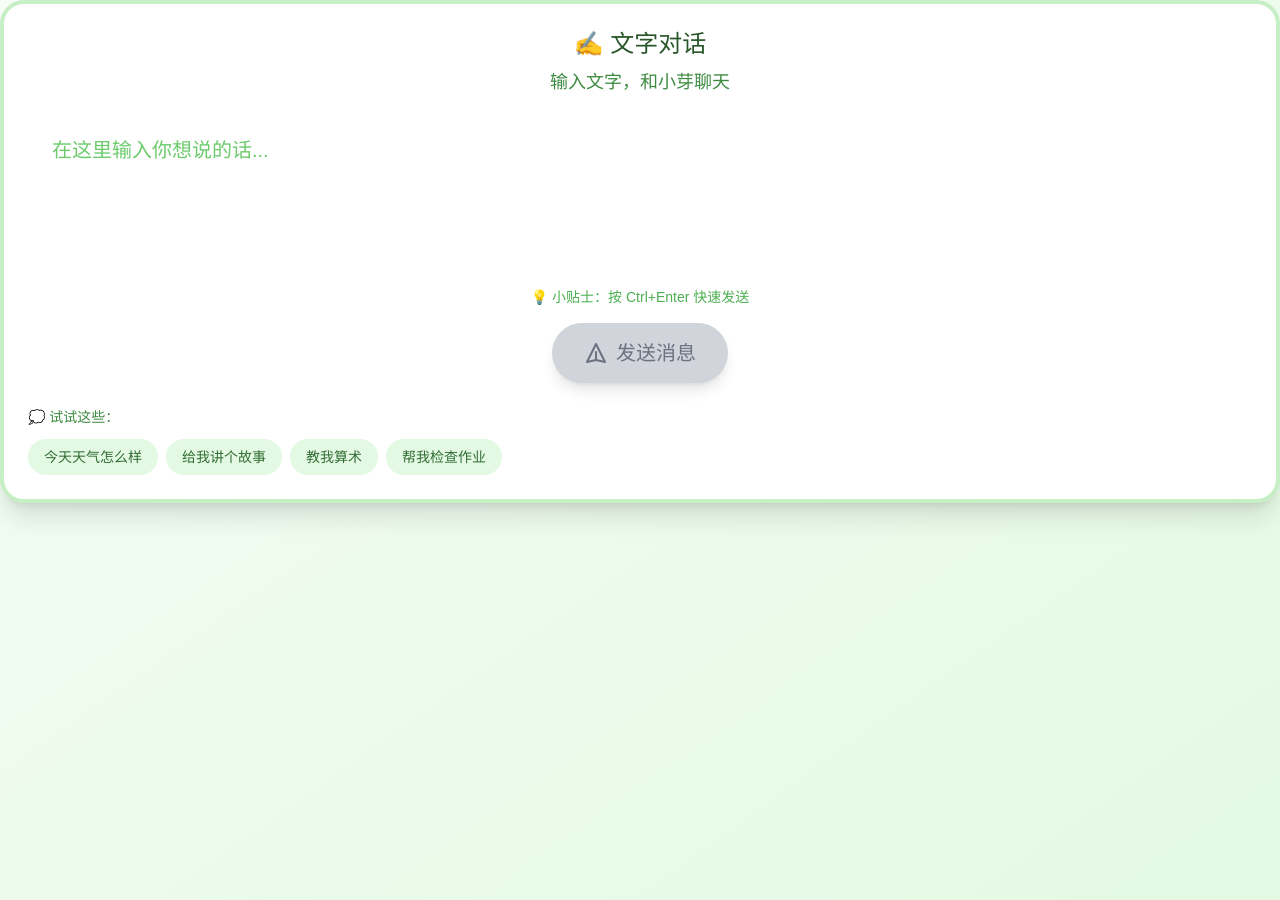
Test: TextInteraction Component › 输入功能 › 应该在输入文本后启用发送按钮
This screenshot has width=1280, height=900.
Expected: the button "发送消息" is disabled, [552,323,728,383]
Note:  输入文本后启用
Type "你好" into the text box with placeholder "在这里输入你想说的话..." at (640, 192), box [28,120,1252,264]
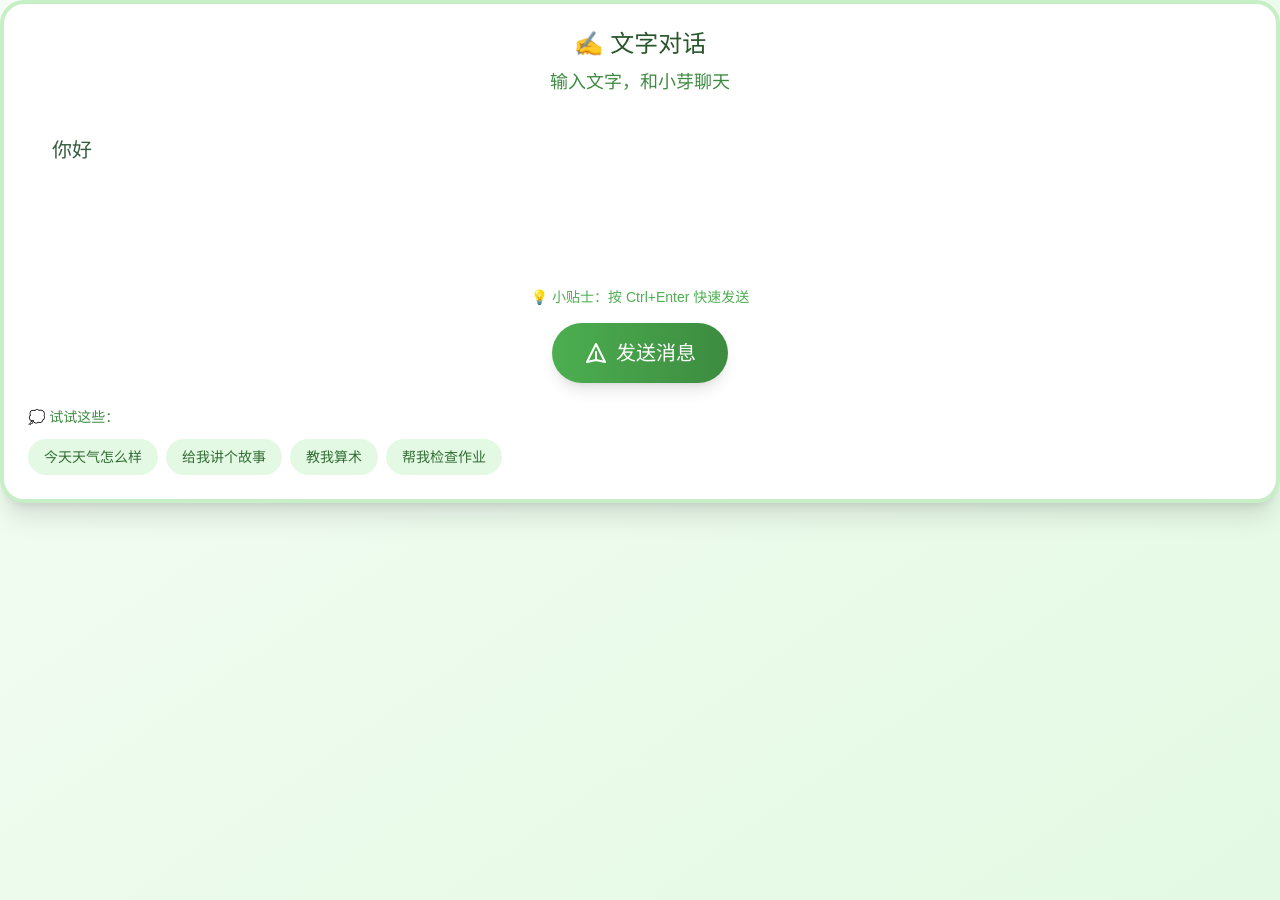
Expected: the button "发送消息" is enabled, [552,323,728,383]
